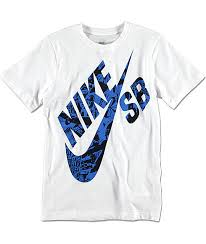nike: (53, 33, 143, 197)
